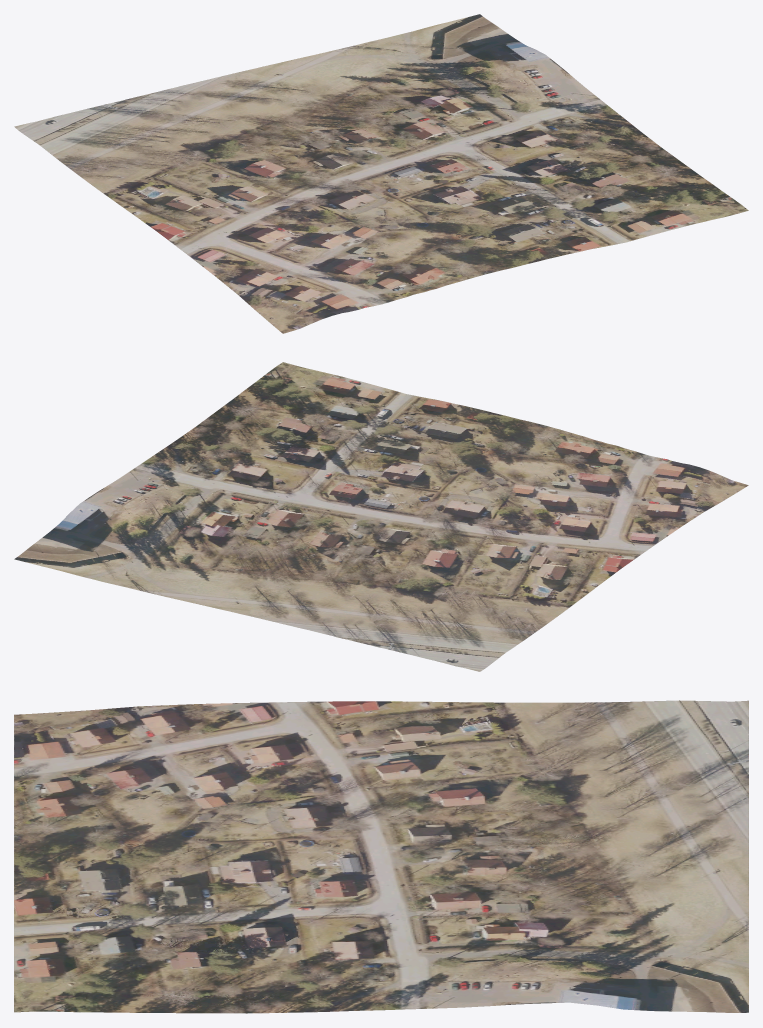
The model's file is CM_Terrain_24490254_6821432.fbx.
3 views of the same model, one above another, from view 1: azimuth 30°, elevation 25°; view 2: azimuth 150°, elevation 25°; view 3: azimuth 270°, elevation 25° (orthographic). The views are drawn at different scales.
Parts seen in each view (by area): view 1: CM_Terrain_24490254_6821432_LOD0; view 2: CM_Terrain_24490254_6821432_LOD0; view 3: CM_Terrain_24490254_6821432_LOD0.
Boxes of the visible parts, x1,y1,x2,y2 form: CM_Terrain_24490254_6821432_LOD0: (14,14,748,333); CM_Terrain_24490254_6821432_LOD0: (14,362,748,671); CM_Terrain_24490254_6821432_LOD0: (14,700,748,1013).
Size of what is drawn, in the model's own units: 205 by 6.98 by 205.
